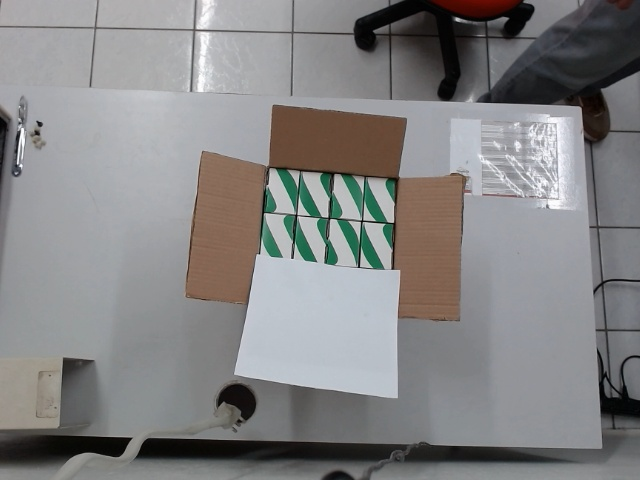divisor: (234, 252, 401, 400)
item: (360, 174, 402, 224), (328, 172, 367, 224), (325, 218, 362, 271), (258, 211, 297, 261), (265, 164, 301, 217), (295, 169, 333, 219), (294, 215, 329, 269), (360, 220, 397, 271)
